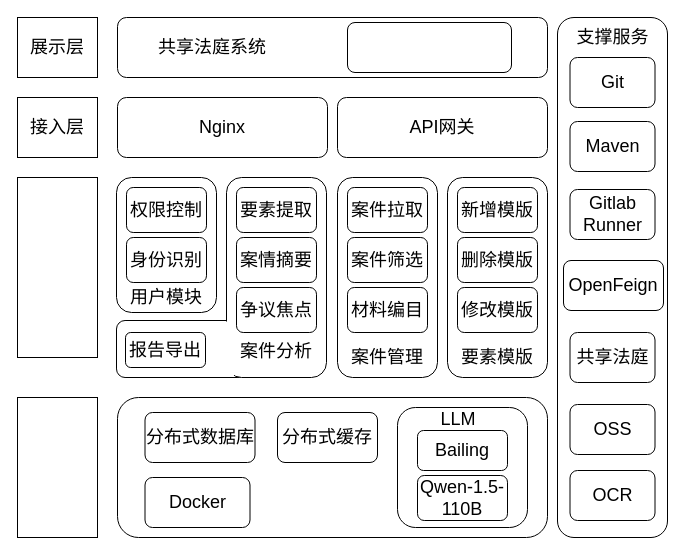
Image size: 685x555. Some labels were removed from this diagram. Here are the shapes that lost their labels. From the top down, the centre of each, then its label:
point 429,47: AI办案工作台
point 57,267: 领域层
point 57,467: 基础设施层
